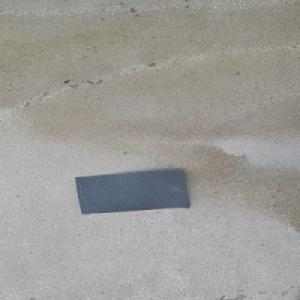PaintChip: (75, 168, 192, 214)
